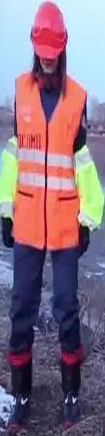boots: (6, 345, 40, 435), (60, 351, 86, 431)
gloves: (76, 224, 90, 256), (0, 216, 14, 248)
hard-hat: (30, 0, 68, 60)
vest: (0, 71, 105, 252)
